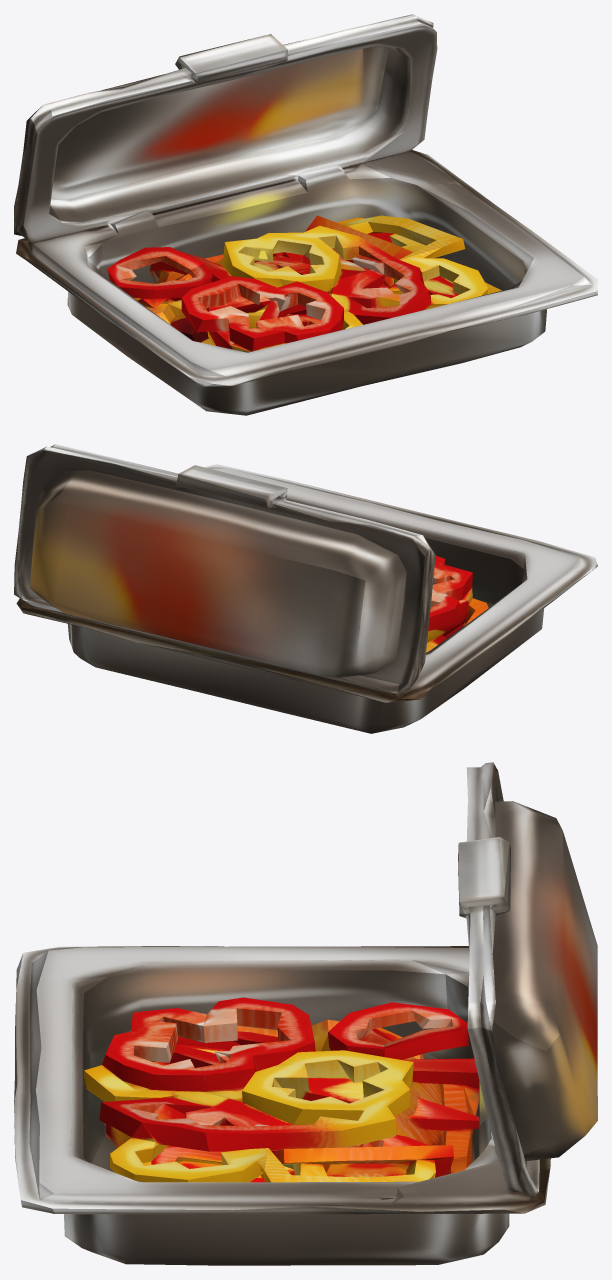
Rendered from Peppers_v3.glb.
The picture shows the model from 3 angles, top to bottom: view 1: azimuth 30°, elevation 25°; view 2: azimuth 150°, elevation 25°; view 3: azimuth 270°, elevation 25°; orthographic projection. The views are drawn at different scales.
Visible parts, largest first — view 1: geometry_0; view 2: geometry_0; view 3: geometry_0.
Boxes of the visible parts, x1,y1,x2,y2 form: geometry_0: [14, 14, 597, 415]; geometry_0: [14, 444, 597, 733]; geometry_0: [14, 762, 597, 1265].
Bounding box in the file's own units: 0.15 × 0.08 × 0.14.
1 material, 1 textured.
